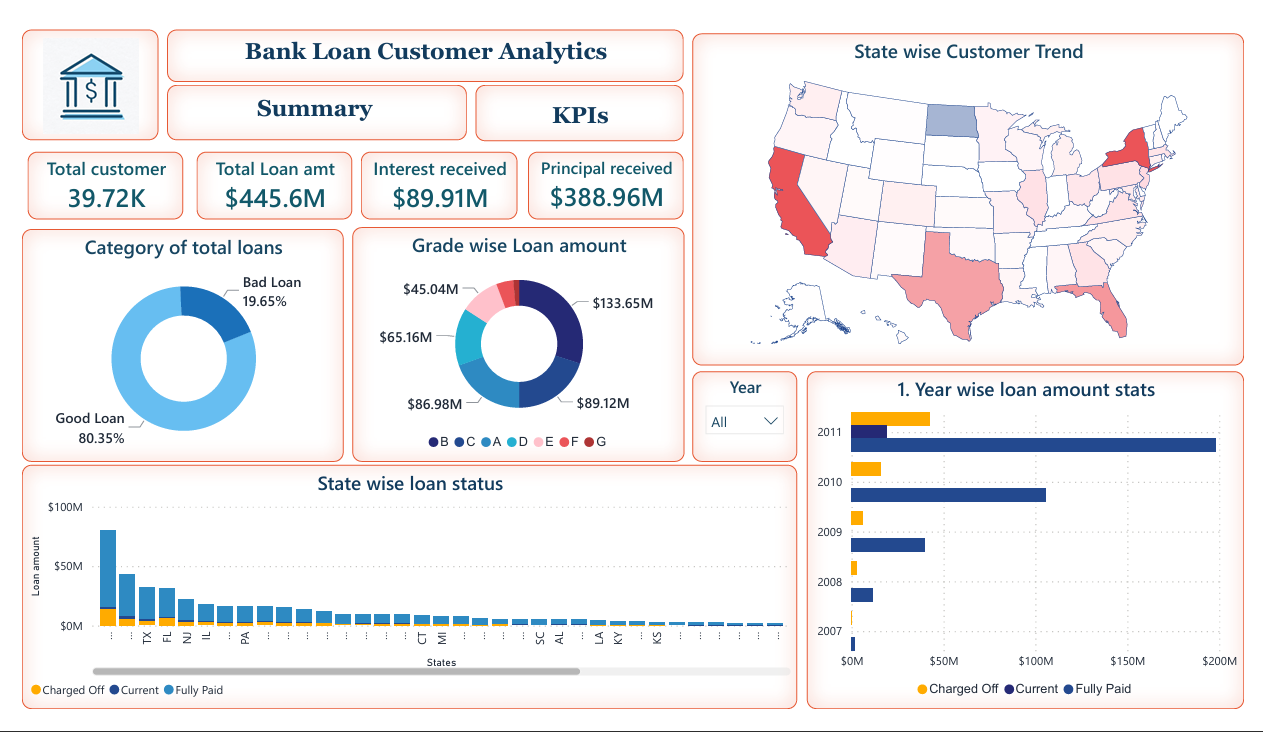

This screenshot's page, from the dashboard's own definition file:
{"tool":"powerbi","page":{"name":"Summary","canvas":[1280,720],"ordinal":0},"visuals":[{"type":"card","title":"Total customer","fields":{"Values":["Count(Finance_1.id)"]},"box":[5.6,136.3,163.4,71],"z":0},{"type":"donutChart","title":"Category of total loans","fields":{"Category":["Finance_1.loan Category"],"Y":["Sum(Finance_1.id)"]},"box":[0,217.3,337,244],"z":1000},{"type":"textbox","box":[152.1,7.9,540.8,55.2],"z":2000},{"type":"actionButton","box":[475.5,66.5,217.5,58.6],"z":3000},{"type":"textbox","box":[152.2,66.2,313.7,58.1],"z":4000},{"type":"image","box":[0,8.1,142.9,116.2],"z":5000},{"type":"card","title":"Total Loan amt","fields":{"Values":["Sum(Finance_1.loan_amnt)"]},"box":[182.5,136.3,163.4,71],"z":6000},{"type":"card","title":"Interest received","fields":{"Values":["Sum(Sheet1.total_rec_int)"]},"box":[354.9,136.3,164.5,71],"z":7000},{"type":"card","title":"Principal received","fields":{"Values":["Sum(Sheet1.total_rec_prncp)"]},"box":[529.6,136.3,163.4,71],"z":8000},{"type":"donutChart","title":"Grade wise Loan amount","fields":{"Category":["Finance_1.grade"],"Y":["Sum(Finance_1.loan_amnt)"]},"box":[346.3,215,347.4,246.3],"z":9000},{"type":"slicer","title":"Year","fields":{"Values":["Finance_1.Year"]},"box":[701.8,366,110.4,95.3],"z":10000},{"type":"shapeMap","title":"State wise Customer Trend","fields":{"Category":["Finance_1.addr_state"],"Value":["CountNonNull(Finance_1.id)"]},"box":[701.8,11.6,578.7,348.6],"z":11000},{"type":"clusteredBarChart","title":"1. Year wise loan amount stats","fields":{"Category":["Finance_1.Issued date.Variation.Date Hierarchy.Year"],"Series":["Finance_1.loan_status"],"Y":["Sum(Finance_1.loan_amnt)"]},"box":[821.5,366,459,354.4],"z":12000},{"type":"columnChart","title":"State wise loan status","fields":{"Category":["Finance_1.addr_state"],"Series":["Finance_1.loan_status"],"Y":["Sum(Finance_1.loan_amnt)"]},"box":[0,463.6,812.2,256.8],"z":13000}]}

Visuals, with their boxes in screenshot pixels (x1, y1, x2, y2), scaled from the page's 1280x720 canvas onto the 1263x732 screenshot:
"Total customer" card: bbox=[6, 139, 167, 211]
"Category of total loans" donutChart: bbox=[0, 221, 333, 469]
textbox: bbox=[150, 8, 684, 64]
actionButton: bbox=[469, 68, 684, 127]
textbox: bbox=[150, 67, 460, 126]
image: bbox=[0, 8, 141, 126]
"Total Loan amt" card: bbox=[180, 139, 341, 211]
"Interest received" card: bbox=[350, 139, 513, 211]
"Principal received" card: bbox=[523, 139, 684, 211]
"Grade wise Loan amount" donutChart: bbox=[342, 219, 684, 469]
"Year" slicer: bbox=[692, 372, 801, 469]
"State wise Customer Trend" shapeMap: bbox=[692, 12, 1262, 366]
"1. Year wise loan amount stats" clusteredBarChart: bbox=[811, 372, 1262, 731]
"State wise loan status" columnChart: bbox=[0, 471, 801, 731]
